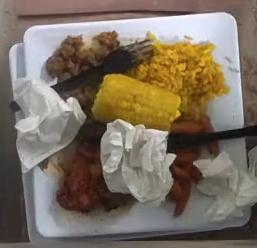carrots: (167, 148, 202, 216), (171, 114, 213, 135), (207, 141, 218, 156)
corn: (91, 73, 178, 129)
rice: (126, 41, 228, 119)
unknown: (44, 139, 125, 212), (46, 31, 119, 82)
